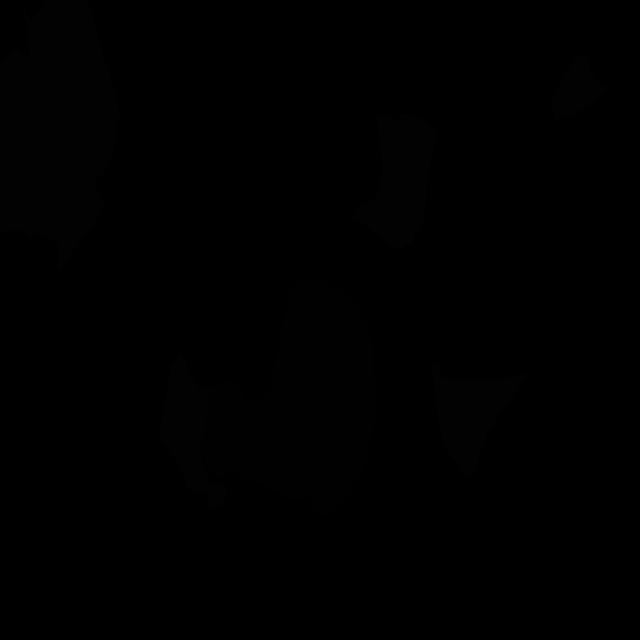cardboard: (0, 0, 121, 273), (351, 112, 437, 250), (432, 362, 530, 476), (158, 352, 228, 508), (552, 57, 606, 120)
rigid_plastic: (200, 274, 378, 518)
